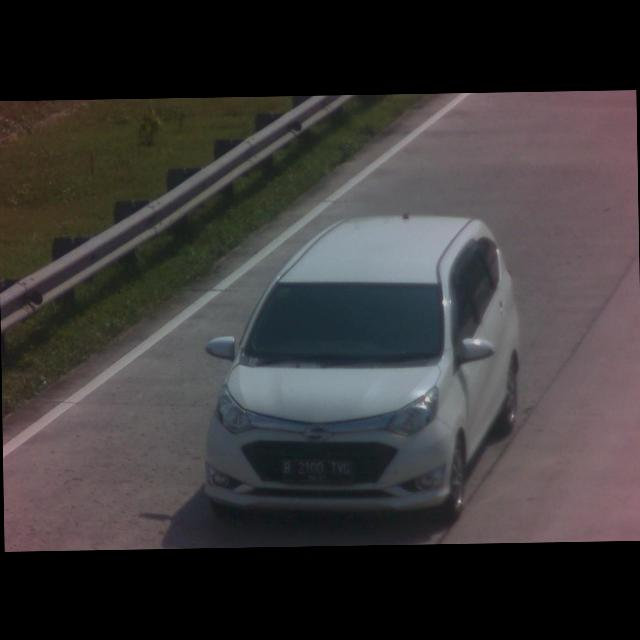plate: (280, 455, 353, 479)
